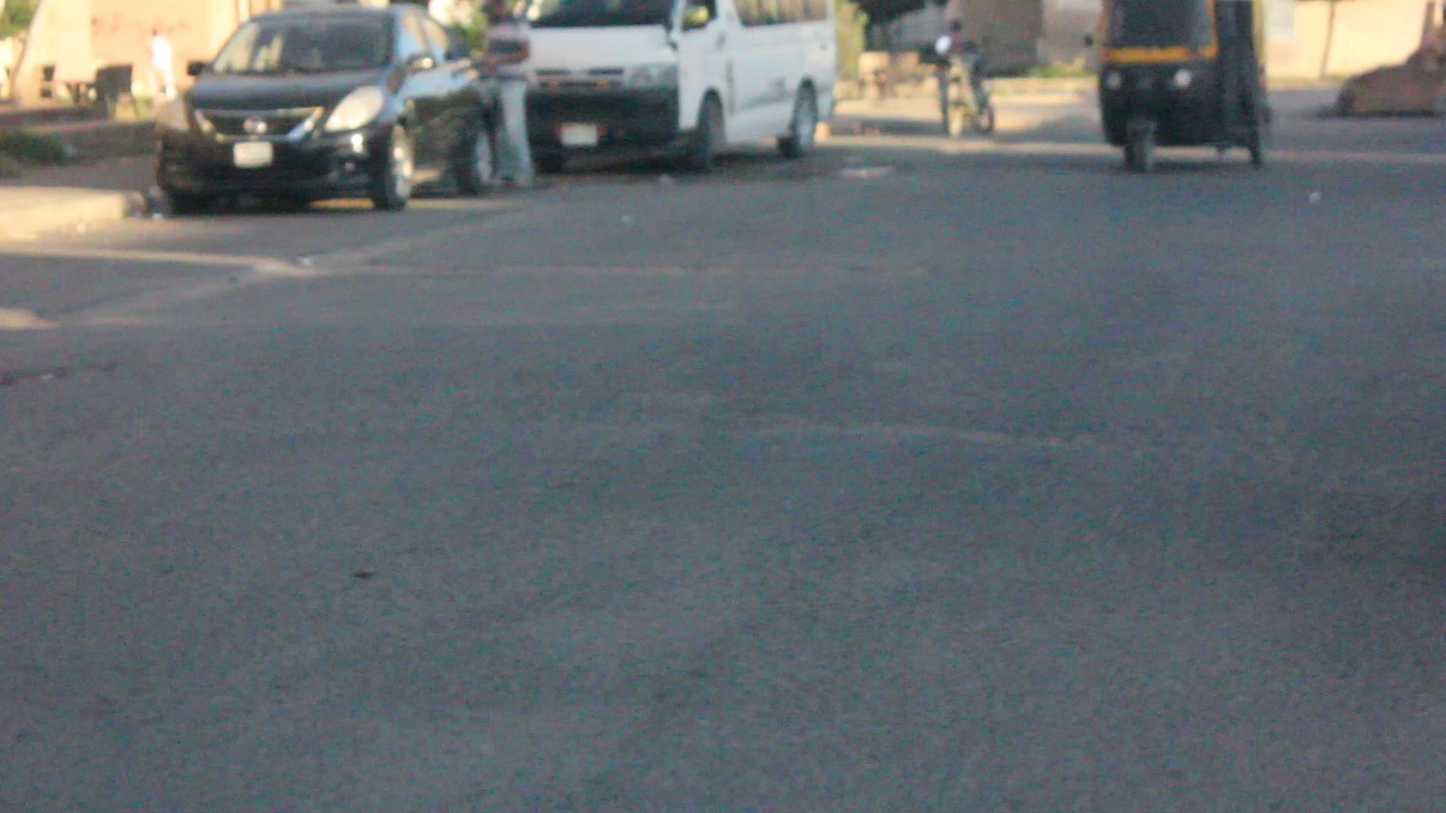Bump: (102, 440, 1446, 580)
